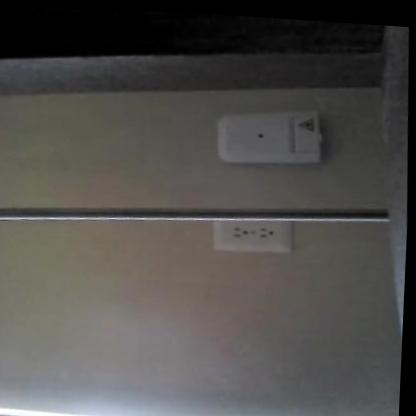OUTLET: (210, 216, 295, 256)
